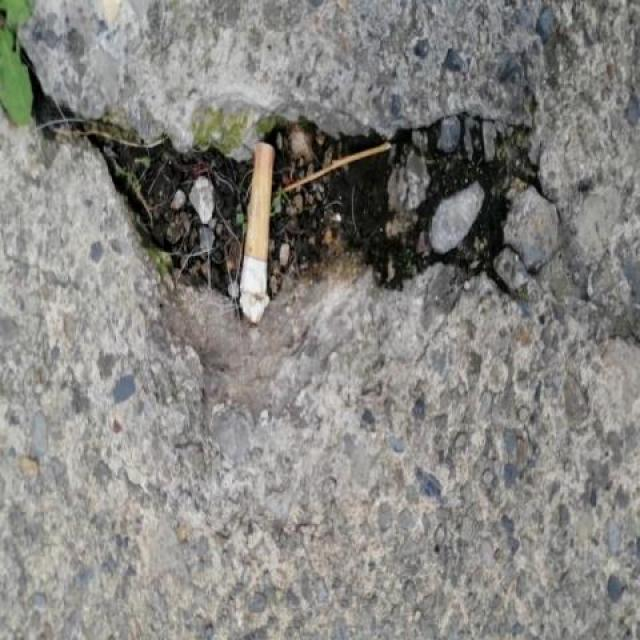non-organic waste: (236, 136, 279, 327)
